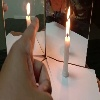fire: (66, 19, 71, 40)
